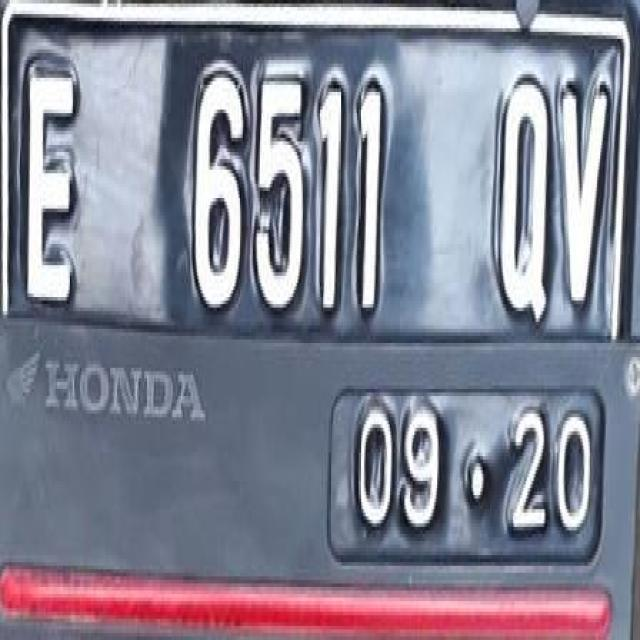1: (346, 72, 390, 320), (310, 69, 344, 320)
5: (250, 58, 310, 320)
6: (184, 55, 250, 316)
E: (18, 45, 85, 318)
Q: (496, 60, 550, 325)
V: (558, 59, 610, 324)
